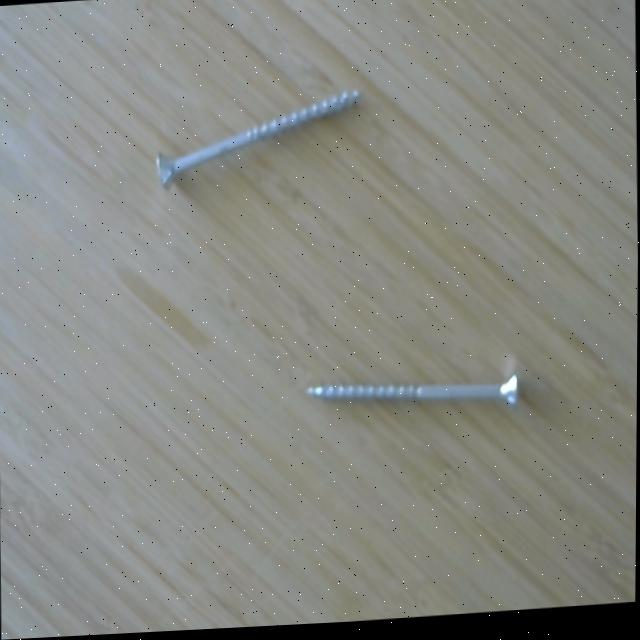Long screw: (150, 86, 365, 197), (302, 352, 529, 435)
